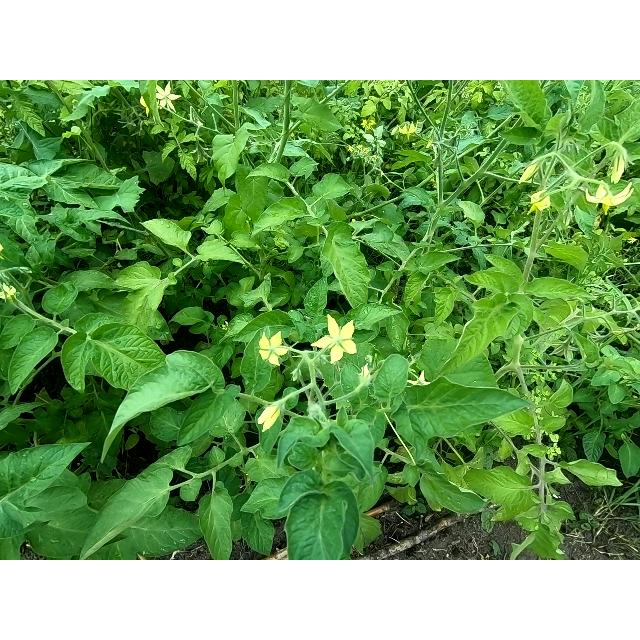Flowers: (309, 314, 356, 364), (586, 182, 634, 214), (258, 329, 288, 366), (252, 401, 286, 433), (605, 142, 627, 184), (154, 81, 182, 113), (516, 158, 542, 186), (528, 189, 552, 213), (406, 369, 429, 389), (398, 120, 418, 138), (1, 284, 18, 300), (362, 119, 376, 131), (357, 144, 363, 152), (347, 146, 353, 152), (372, 156, 378, 162), (364, 148, 368, 154)
